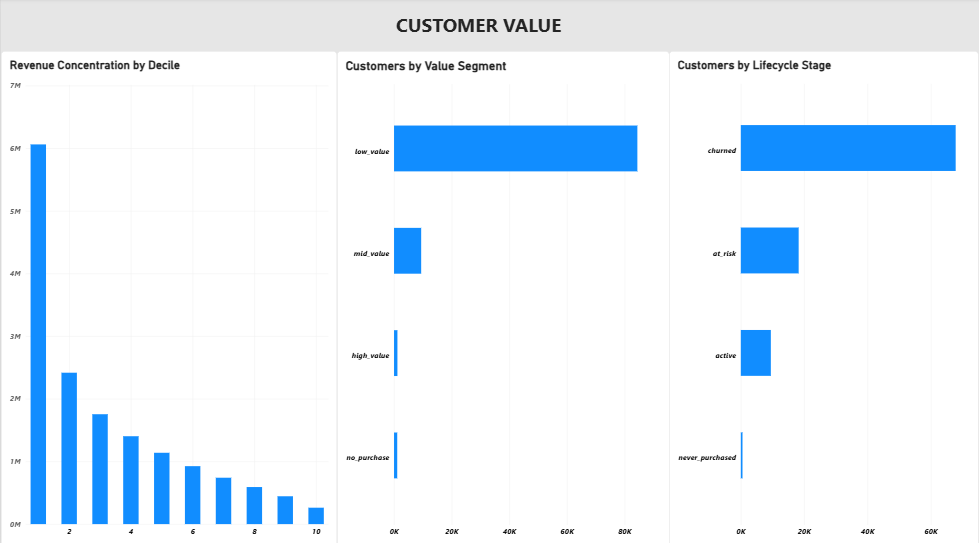

The page's visual inventory and layout, read from the dashboard file:
{"tool":"powerbi","page":{"name":"Page 2","canvas":[1920,1080],"ordinal":1},"visuals":[{"type":"clusteredBarChart","title":"Customers by Value Segment","fields":{"Category":["MART_CUSTOMER_LTV.VALUE_SEGMENT"],"Y":["CountNonNull(MART_CUSTOMER_LTV.CUSTOMER_UNIQUE_ID)"]},"box":[660,105,652.5,975],"z":0},{"type":"clusteredColumnChart","title":"Revenue Concentration by Decile","fields":{"Category":["MART_CUSTOMER_LTV.REVENUE_DECILE"],"Y":["Sum(MART_CUSTOMER_LTV.LIFETIME_REVENUE)"]},"box":[0,105,660,975],"z":1},{"type":"clusteredBarChart","title":"Customers by Lifecycle Stage","fields":{"Category":["MART_CUSTOMER_LTV.LIFECYCLE_STAGE"],"Y":["CountNonNull(MART_CUSTOMER_LTV.CUSTOMER_UNIQUE_ID)"]},"box":[1312.5,105,607.5,975],"z":2},{"type":"textbox","box":[775,27.5,485,95],"z":3}]}

Visuals, with their boxes in screenshot pixels (x1, y1, x2, y2), scaled from the page's 1920x1080 canvas onto the 979x543 screenshot:
"Customers by Value Segment" clusteredBarChart: [337,53,669,542]
"Revenue Concentration by Decile" clusteredColumnChart: [0,53,337,542]
"Customers by Lifecycle Stage" clusteredBarChart: [669,53,978,542]
textbox: [395,14,642,62]
